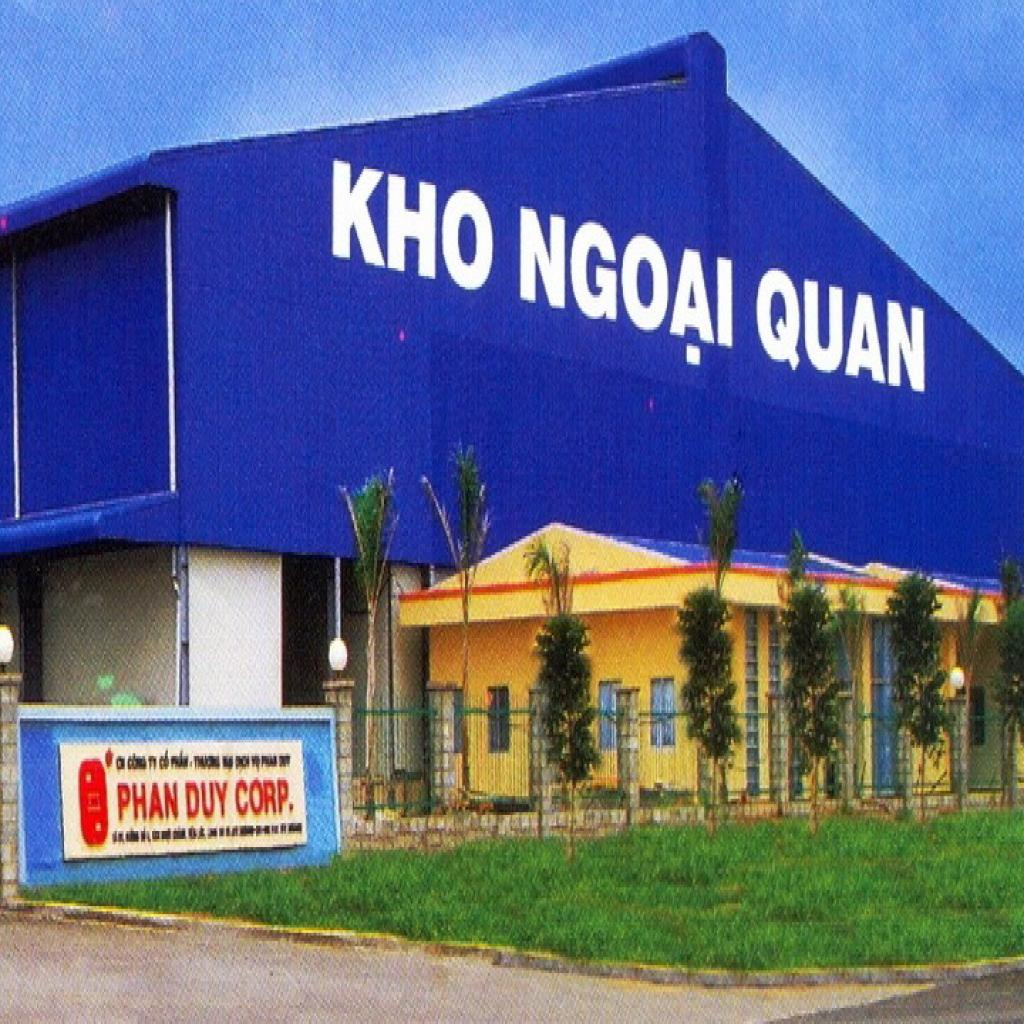text: (514, 188, 740, 383), (328, 142, 498, 311), (752, 258, 930, 408), (114, 780, 182, 826), (233, 775, 297, 820), (184, 780, 230, 823), (195, 750, 222, 774), (170, 748, 190, 775), (126, 753, 148, 775), (159, 748, 171, 775), (148, 753, 158, 772), (189, 762, 195, 770)
